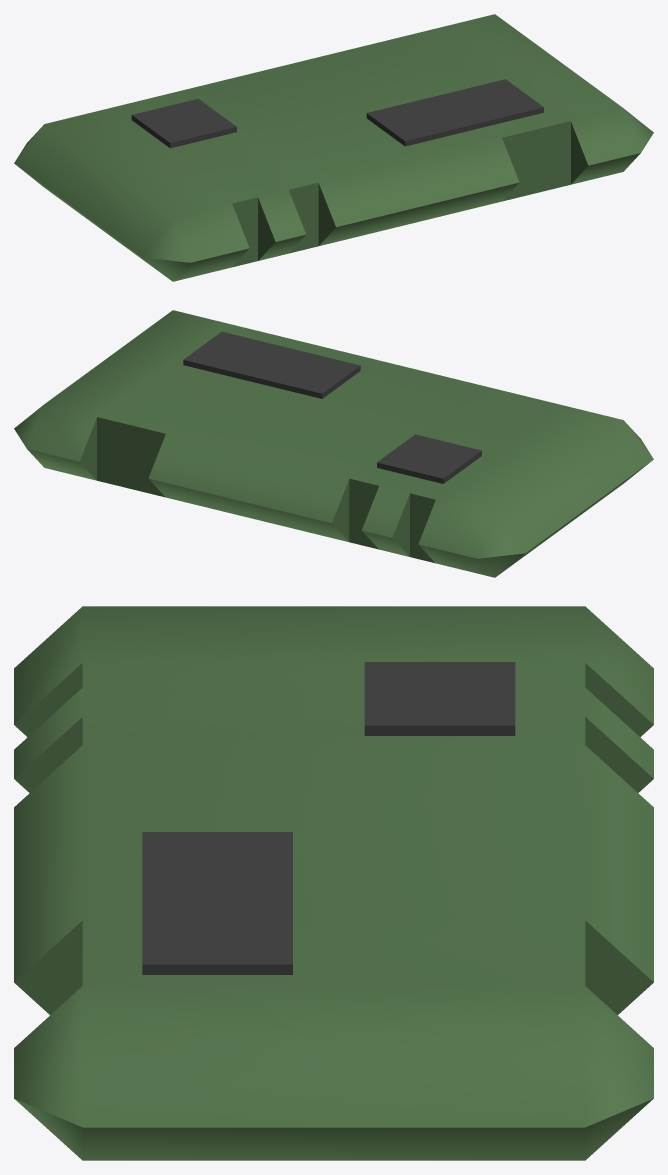
The model's file is ElectricIron.fbx.
3 views of the same model, one above another, from view 1: azimuth 30°, elevation 25°; view 2: azimuth 150°, elevation 25°; view 3: azimuth 270°, elevation 25° (orthographic). The views are drawn at different scales.
Visible parts, largest first — view 1: MotherBoard, BlackBitBig, BlackBitSmall; view 2: MotherBoard, BlackBitBig, BlackBitSmall; view 3: MotherBoard, BlackBitBig, BlackBitSmall.
Boxes of the visible parts, left/top/right/bottom form: MotherBoard: left=14, top=14, right=653, bottom=281; BlackBitBig: left=366, top=79, right=543, bottom=146; BlackBitSmall: left=131, top=98, right=236, bottom=148; MotherBoard: left=14, top=310, right=653, bottom=577; BlackBitBig: left=183, top=331, right=360, bottom=398; BlackBitSmall: left=377, top=434, right=481, bottom=483; MotherBoard: left=14, top=606, right=653, bottom=1160; BlackBitBig: left=142, top=832, right=292, bottom=974; BlackBitSmall: left=364, top=662, right=515, bottom=735.
Size of the model in its own units: 44.7 by 5.77 by 24.77.
